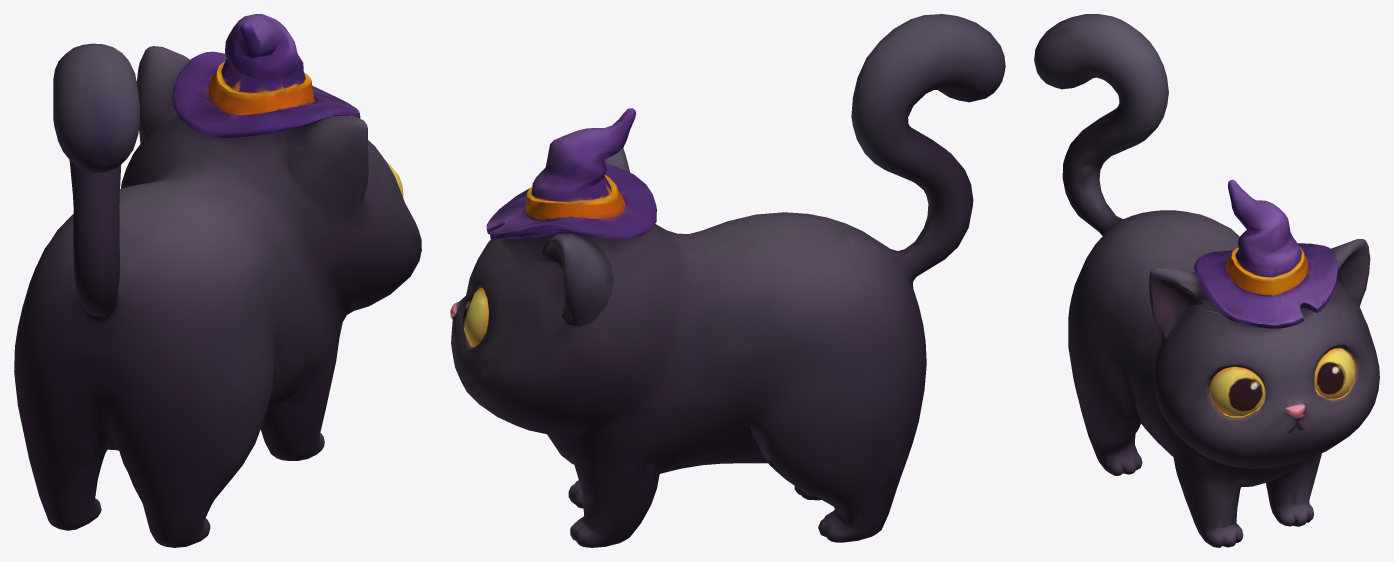
The model's file is E5_Mitten_LOD1.fbx.
The picture shows the model from 3 angles, left to right: view 1: azimuth 30°, elevation 25°; view 2: azimuth 150°, elevation 25°; view 3: azimuth 270°, elevation 25°; orthographic projection. The views are drawn at different scales.
Visible parts, largest first — view 1: E5_Mitten_LOD1; view 2: E5_Mitten_LOD1; view 3: E5_Mitten_LOD1.
Part boxes in pixels (<box>): E5_Mitten_LOD1: <box>14,14,421,547</box>; E5_Mitten_LOD1: <box>450,14,1005,547</box>; E5_Mitten_LOD1: <box>1034,14,1379,547</box>.
Size of the model in its own units: 0.1161 by 0.1301 by 0.0978.
Materials: 1 (1 with a texture image).
